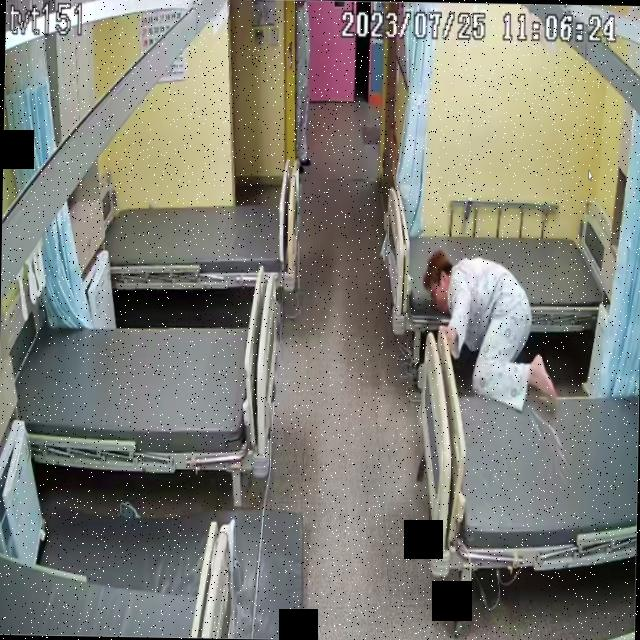bed: (416, 326, 640, 574), (11, 312, 278, 470), (382, 214, 618, 337), (106, 189, 296, 290)
danger: (420, 245, 562, 408)
patient: (421, 250, 562, 410)
